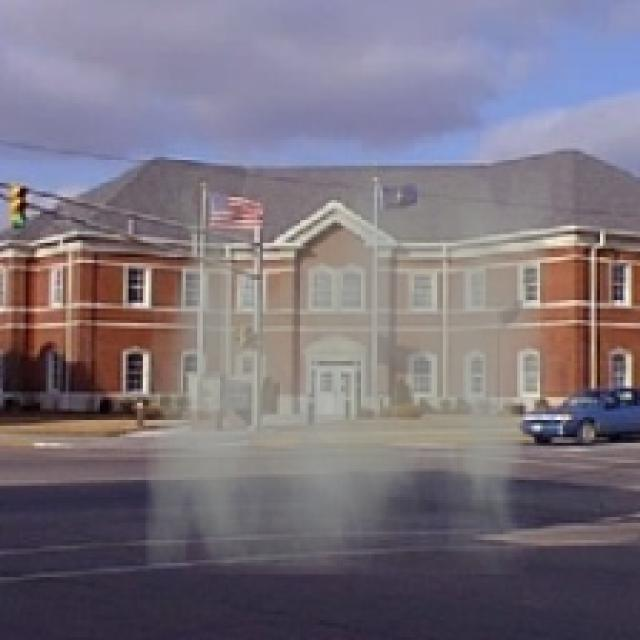smoke: (146, 166, 551, 574)
